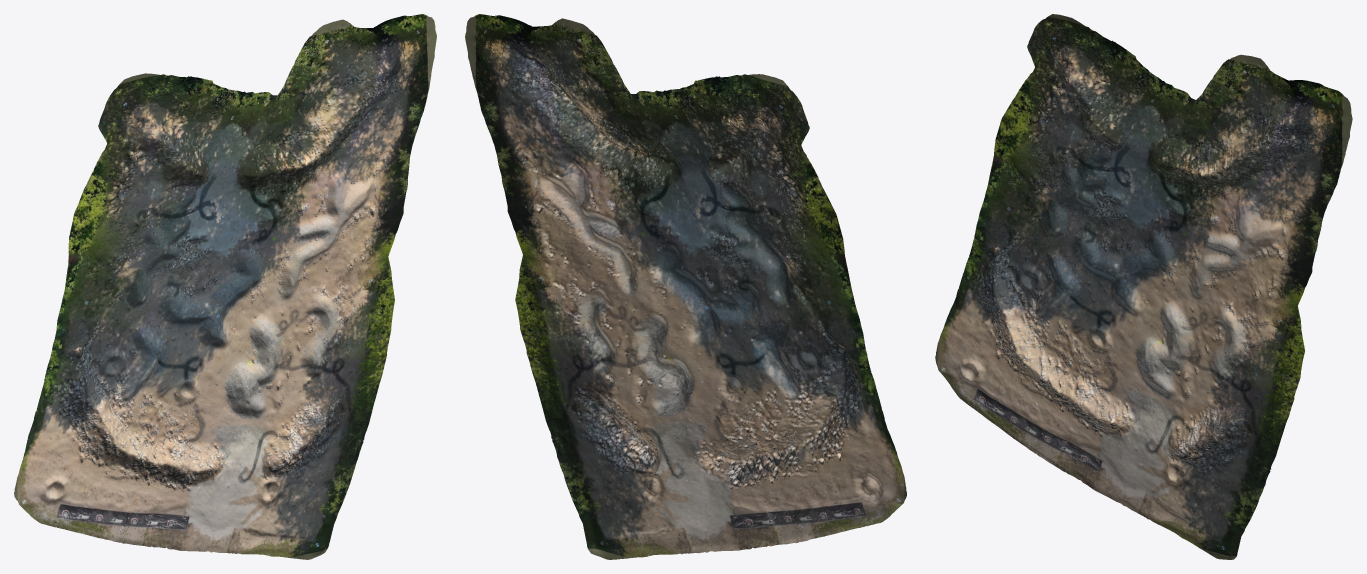
Rendered from marsyard_visual.obj.
The picture shows the model from 3 angles, left to right: view 1: azimuth 30°, elevation 25°; view 2: azimuth 150°, elevation 25°; view 3: azimuth 330°, elevation 25°; orthographic projection. The views are drawn at different scales.
Bounding box in the file's own units: 37.29 × 43.77 × 2.51.
